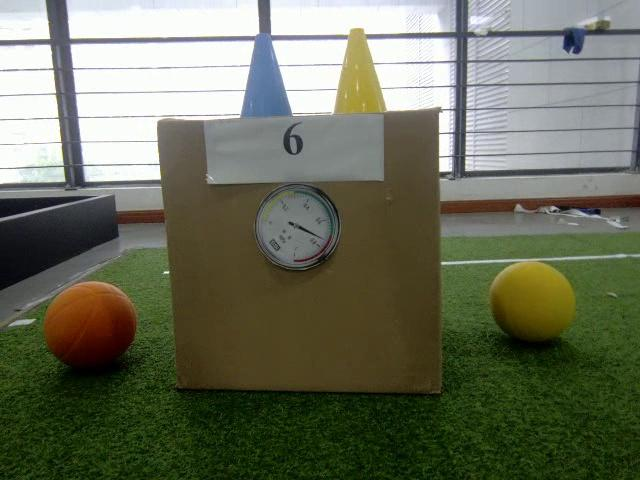6: (283, 119, 306, 158)
Dashboard: (253, 184, 340, 273)
blue_barrel: (235, 32, 292, 119)
orange_ball: (44, 280, 138, 369)
ssi: (269, 239, 282, 254)
yellow_ball: (492, 263, 576, 344)
yellow_barrel: (336, 28, 388, 114)
